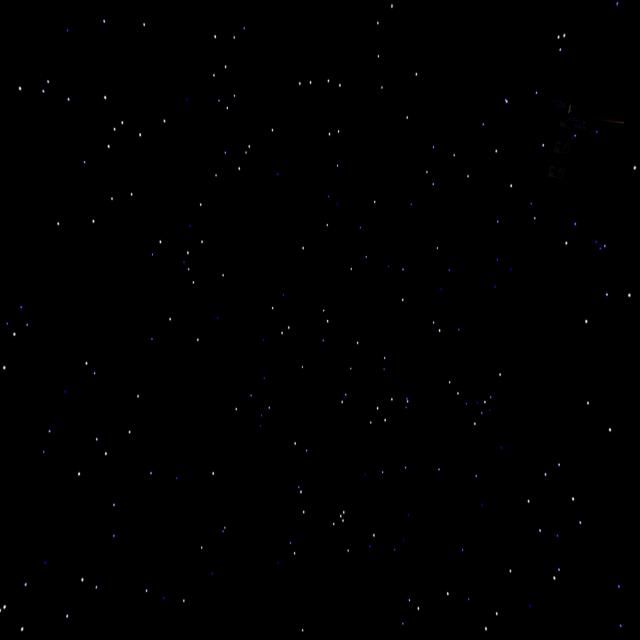medium_debris: (512, 93, 629, 199)
